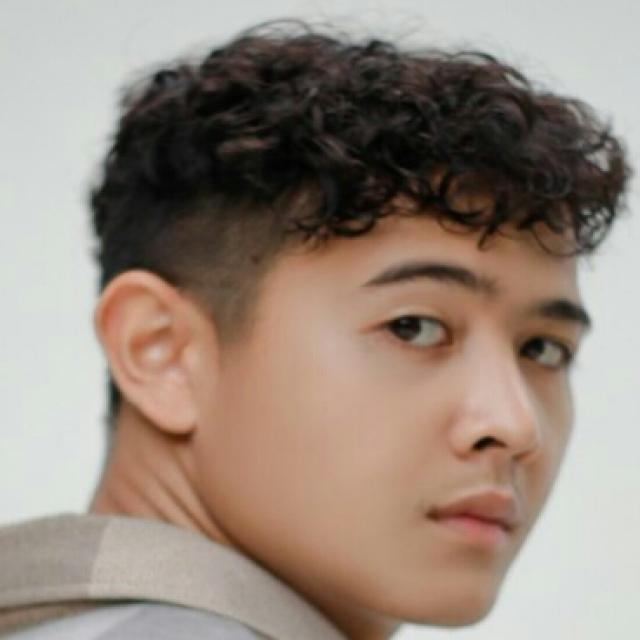front: (268, 242, 580, 598)
